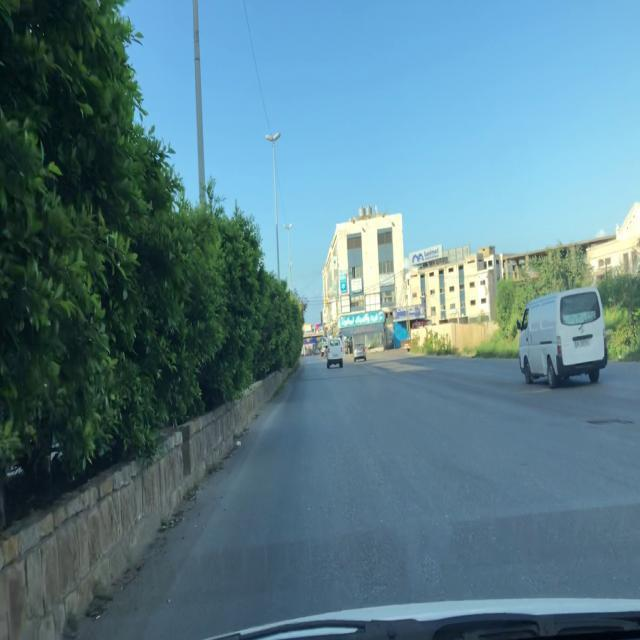Buraco: (583, 417, 637, 427)
